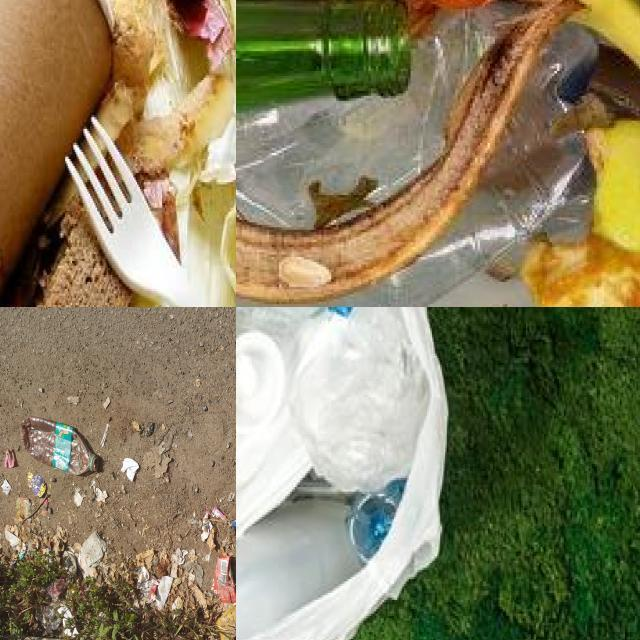Background: (0, 307, 236, 640)
Disposable: (65, 115, 202, 307)
Garbage: (236, 0, 640, 307), (236, 307, 451, 640)
Plastic: (292, 307, 429, 491), (236, 498, 361, 640), (346, 479, 406, 563), (236, 331, 285, 432)
Plastic_bottle: (20, 418, 99, 475)
Plastic_wraper: (211, 556, 236, 604), (139, 566, 162, 605), (216, 604, 236, 640), (28, 472, 47, 497), (47, 579, 67, 602), (16, 499, 32, 519), (211, 505, 228, 522), (231, 520, 236, 529), (78, 607, 81, 609)
contaminated_waste: (236, 15, 600, 307), (236, 0, 530, 226), (236, 0, 410, 112), (236, 502, 369, 640)
